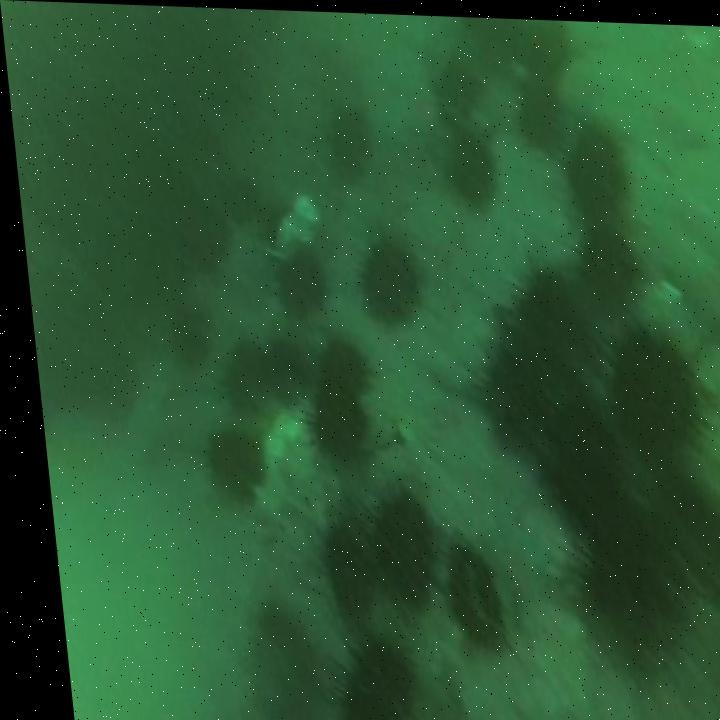echinus: (599, 324, 697, 446), (537, 386, 621, 522), (571, 506, 658, 626), (505, 272, 595, 386), (230, 597, 304, 720), (363, 487, 429, 610), (471, 342, 544, 442), (434, 543, 494, 649), (324, 639, 400, 720), (563, 117, 621, 218), (313, 514, 369, 614), (350, 234, 413, 317), (195, 429, 254, 505), (577, 221, 633, 300), (210, 343, 268, 419), (438, 133, 495, 209), (298, 388, 359, 459), (513, 68, 562, 151), (322, 105, 370, 179), (263, 339, 311, 407), (269, 252, 320, 314), (306, 337, 364, 390)
scallop: (266, 208, 310, 248), (645, 269, 679, 304), (289, 191, 320, 224), (264, 410, 294, 438), (255, 433, 273, 462), (387, 418, 408, 440)
